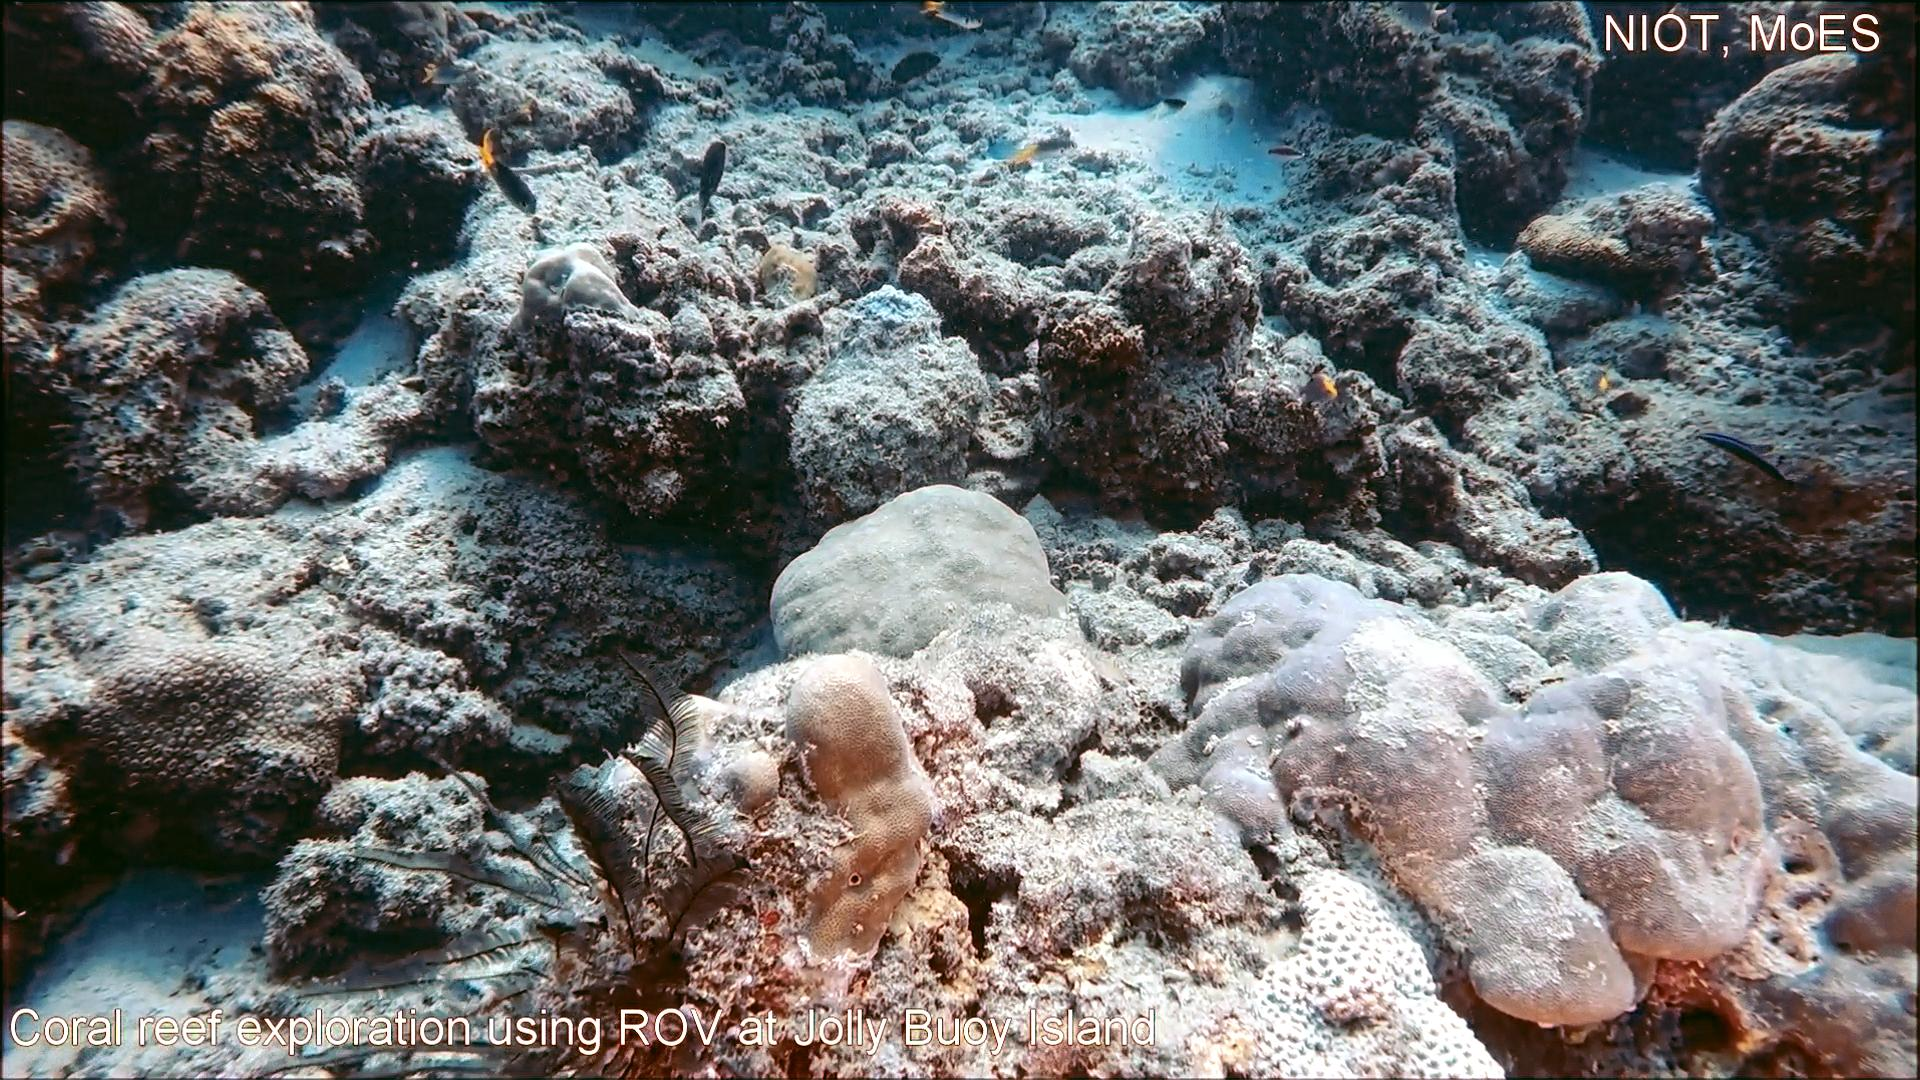Feather star-Crinoid star: (240, 640, 798, 1080)
Goniastrea-Goniastrea pectinata: (1246, 858, 1514, 1080)
Porites-Porites pukoensis: (1608, 564, 1920, 1080)
Turbinaria-Turbinaria stellulata: (76, 640, 358, 857)
